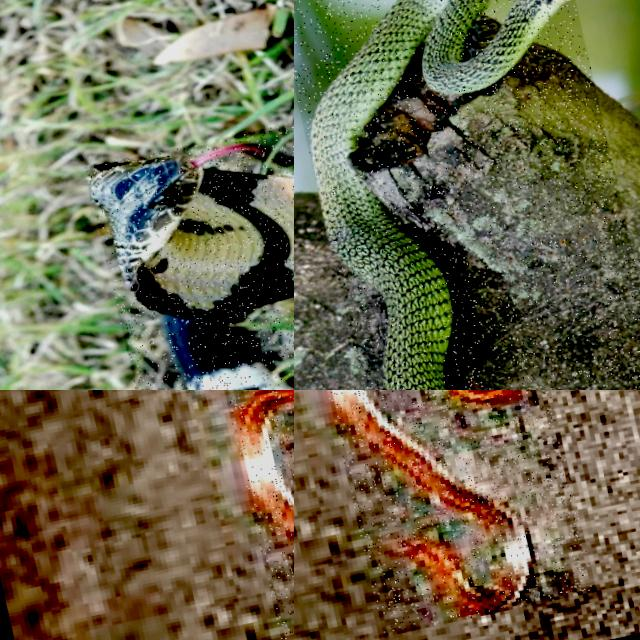Calliophis intestinalis: (333, 390, 531, 615), (236, 390, 293, 537)
Chrysopelea ornata: (311, 0, 565, 389)
Naja siamensis: (87, 144, 293, 389)
snake: (311, 0, 565, 389), (87, 144, 293, 389), (333, 390, 531, 615), (236, 390, 293, 537)
